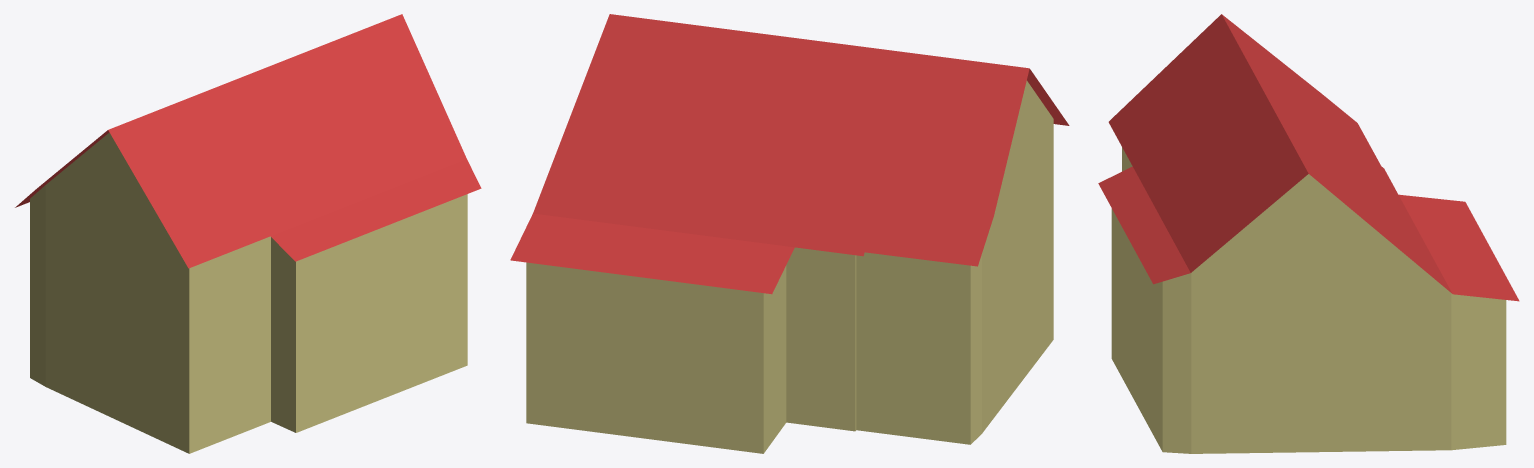
3 renders of one model, left to right at view 1: azimuth 30°, elevation 25°; view 2: azimuth 150°, elevation 25°; view 3: azimuth 270°, elevation 25°, orthographic. The views are drawn at different scales.
Size of the model in its own units: 18.01 by 18.62 by 13.8.
